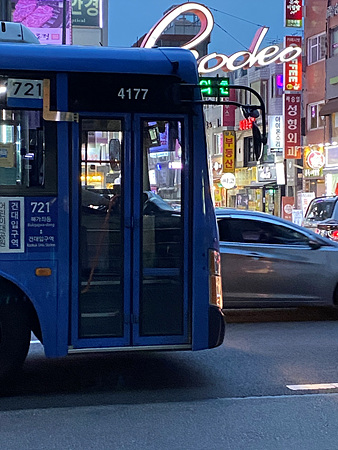entrance: (73, 107, 196, 347)
